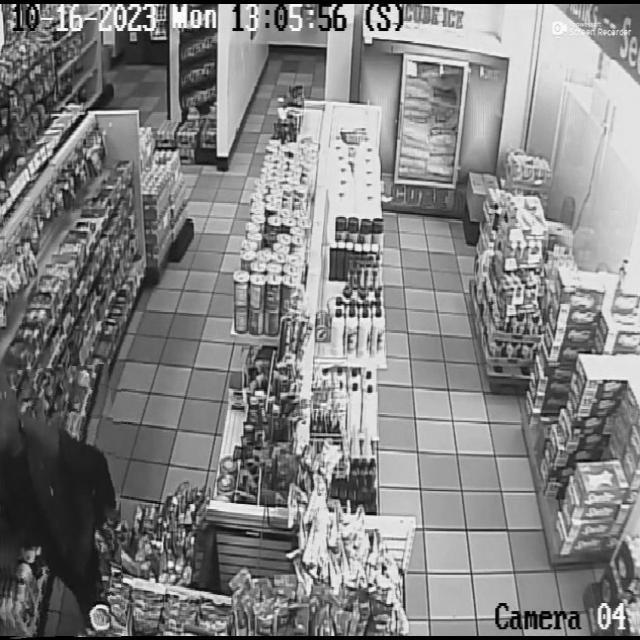Normal: (0, 366, 121, 637)
